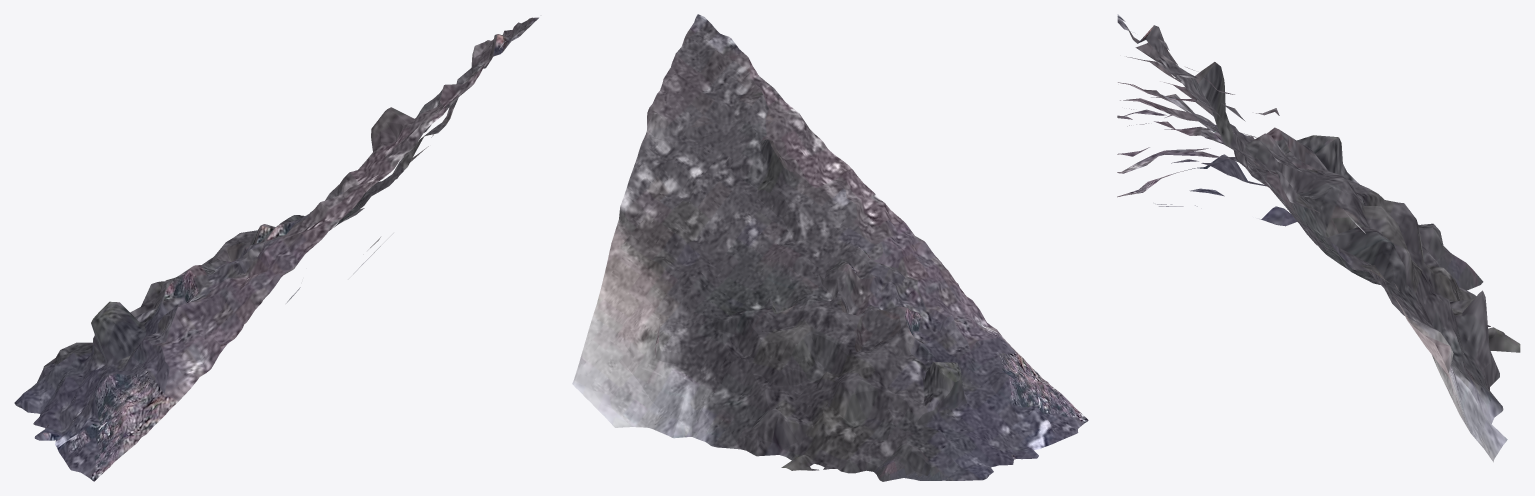
File: nolod_Tile_+008_+005_L19_00070.glb
3 views of the same model, side by side, from view 1: azimuth 30°, elevation 25°; view 2: azimuth 150°, elevation 25°; view 3: azimuth 270°, elevation 25° (orthographic). The views are drawn at different scales.
Visible parts, largest first — view 1: rtc; view 2: rtc; view 3: rtc.
Part boxes in pixels (box(x1,y1,x2,y2)): rtc: box(14, 17, 538, 481); rtc: box(572, 14, 1088, 481); rtc: box(1117, 14, 1520, 462).
Bounding box in the file's own units: 42.7 × 32.11 × 23.57.
1 material, 1 textured.
